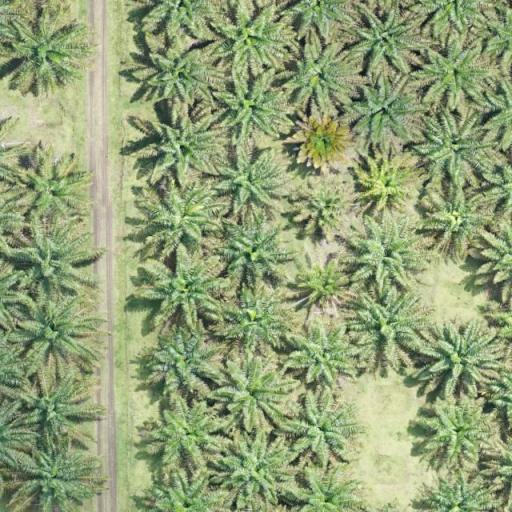Ganoderma: (302, 124, 346, 161), (305, 268, 347, 305), (368, 166, 407, 202)
